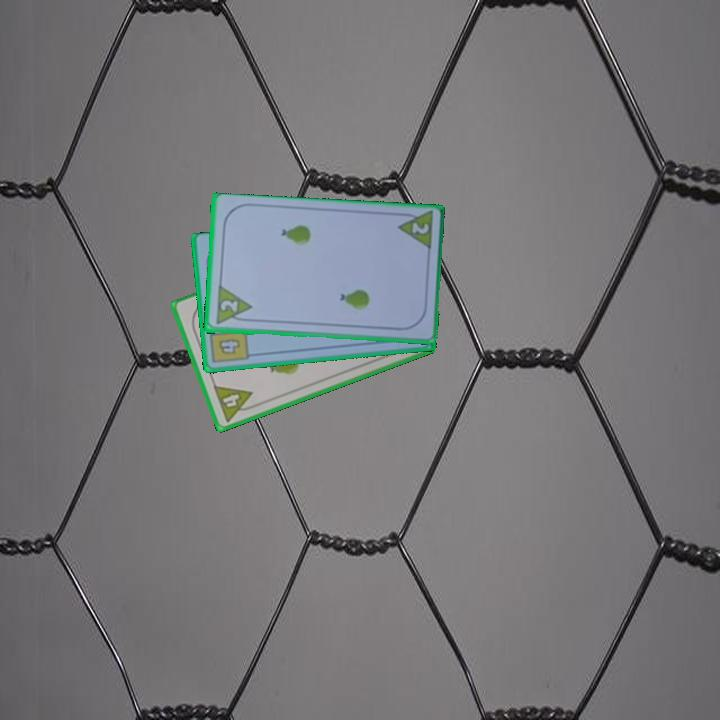2p: (393, 209, 436, 254), (216, 297, 241, 316)
4b: (207, 323, 251, 367)
4p: (210, 382, 260, 425)
